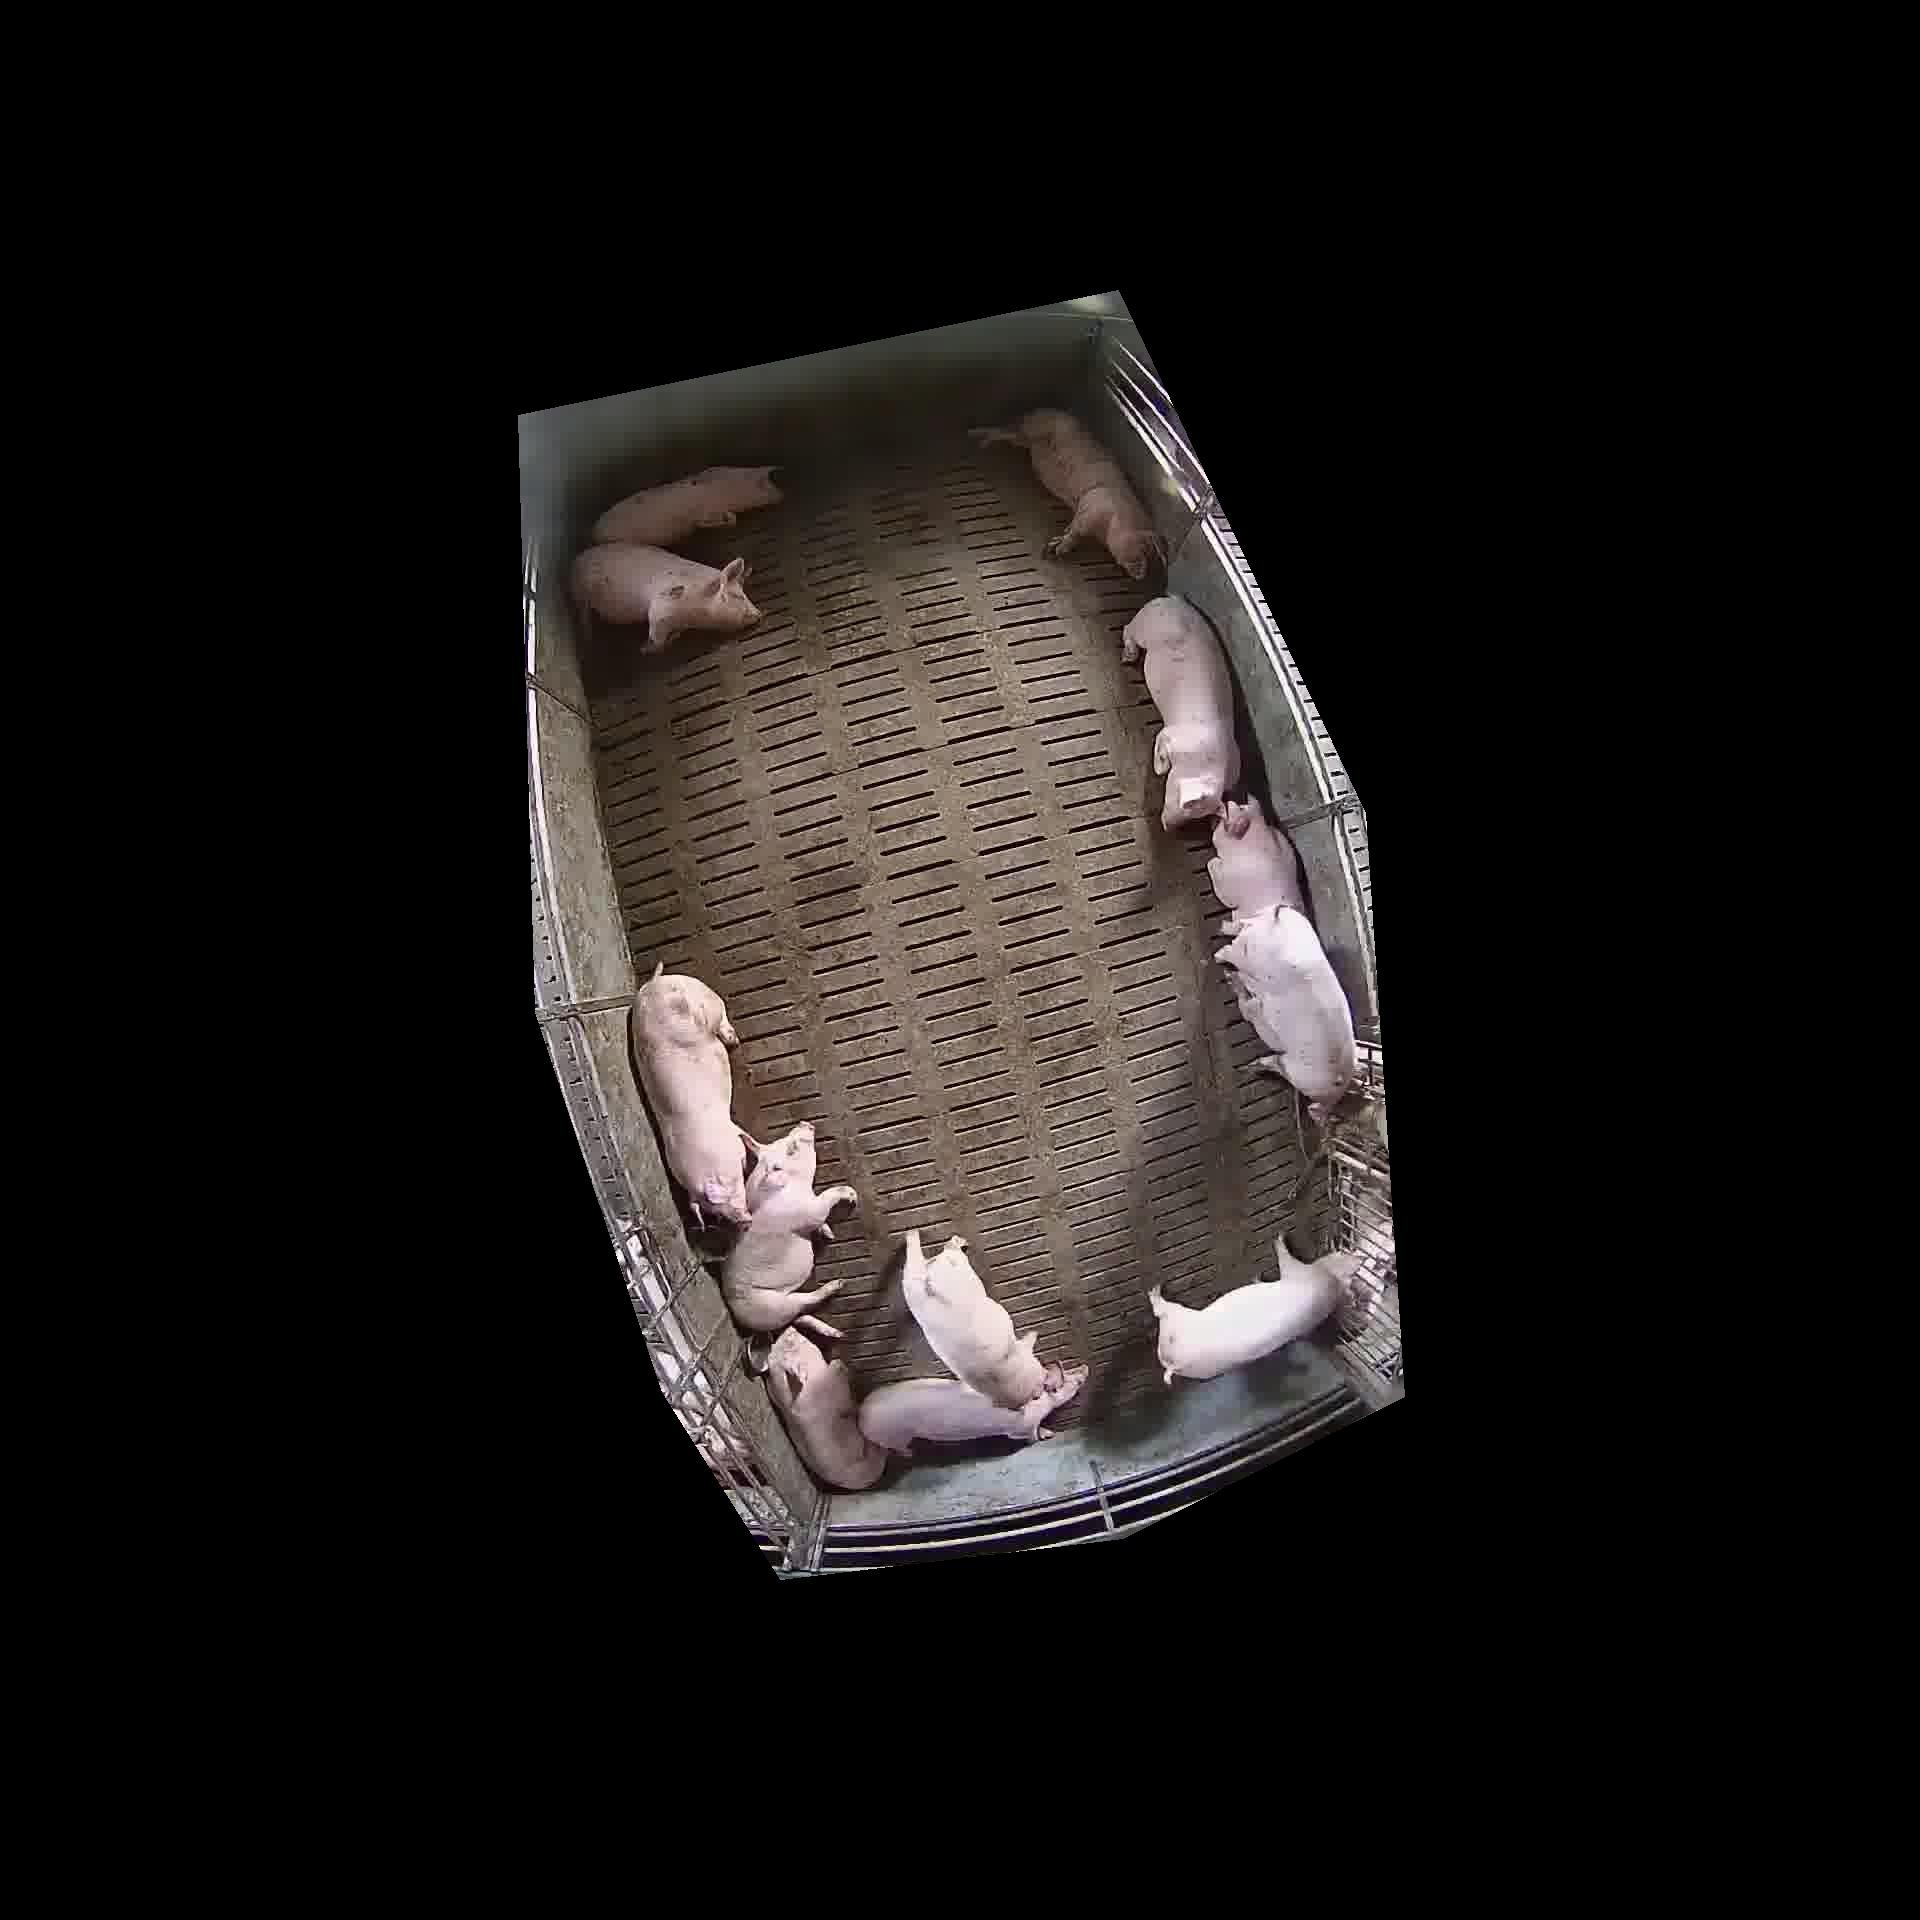pig: (971, 410, 1160, 578), (1148, 1238, 1361, 1382), (631, 964, 747, 1224), (1215, 907, 1356, 1120), (721, 1122, 858, 1336), (1124, 594, 1240, 826), (902, 1231, 1044, 1408), (858, 1359, 1088, 1452), (571, 542, 760, 652), (765, 1327, 884, 1489), (593, 466, 781, 547), (1208, 798, 1303, 920)
